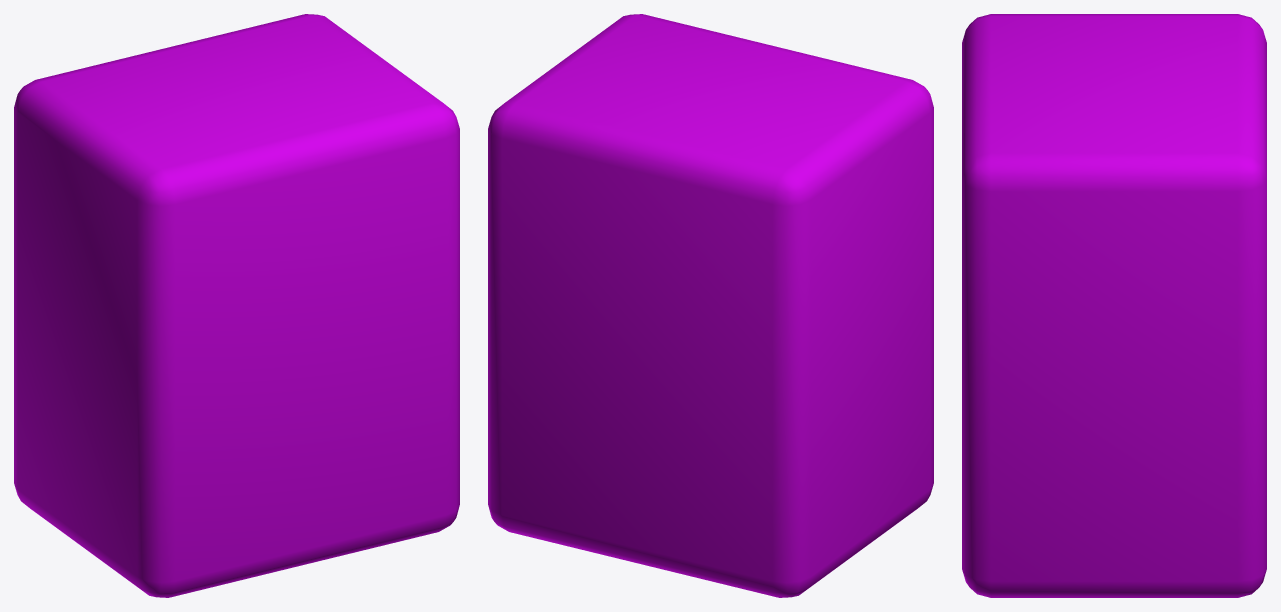
Rendered from tile.glb.
3 renders of one model, left to right at view 1: azimuth 30°, elevation 25°; view 2: azimuth 150°, elevation 25°; view 3: azimuth 270°, elevation 25°, orthographic. The views are drawn at different scales.
Visible parts, largest first — view 1: Tile; view 2: Tile; view 3: Tile.
Boxes of the visible parts, x1,y1,x2,y2 form: Tile: (14, 14, 459, 597); Tile: (488, 14, 933, 597); Tile: (962, 14, 1266, 597).
Size of the model in its own units: 0.02 by 0.0256 by 0.016.
